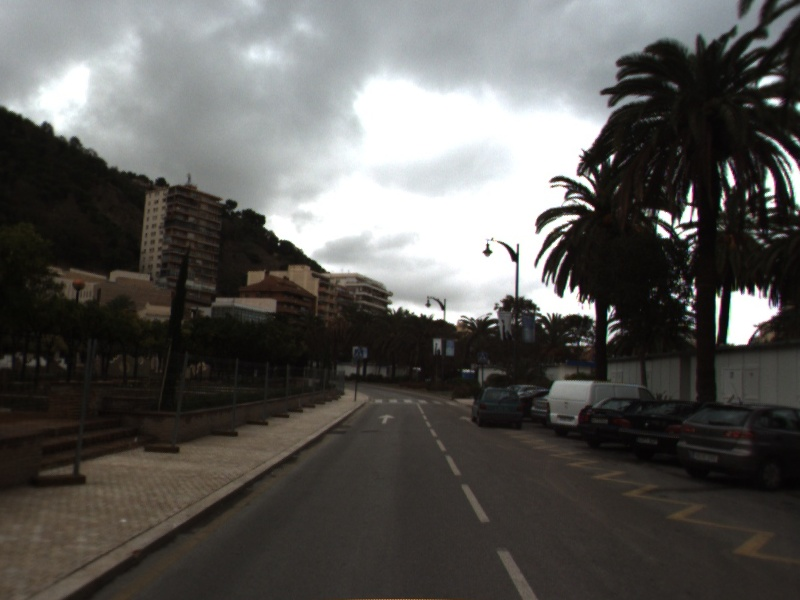STRAIGHT: (457, 414, 479, 428), (376, 412, 397, 425)
